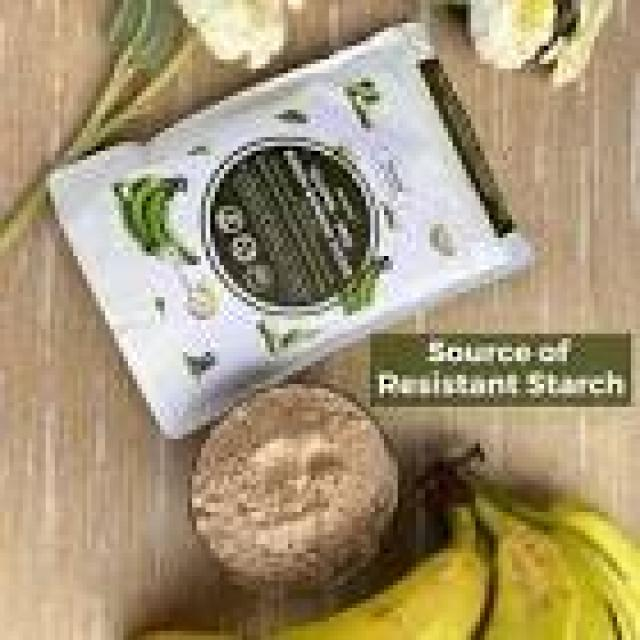banana: (275, 508, 489, 639), (480, 485, 639, 639), (476, 499, 580, 639), (554, 531, 639, 639), (549, 503, 639, 603), (115, 179, 196, 265), (554, 535, 617, 639), (142, 631, 237, 639)
